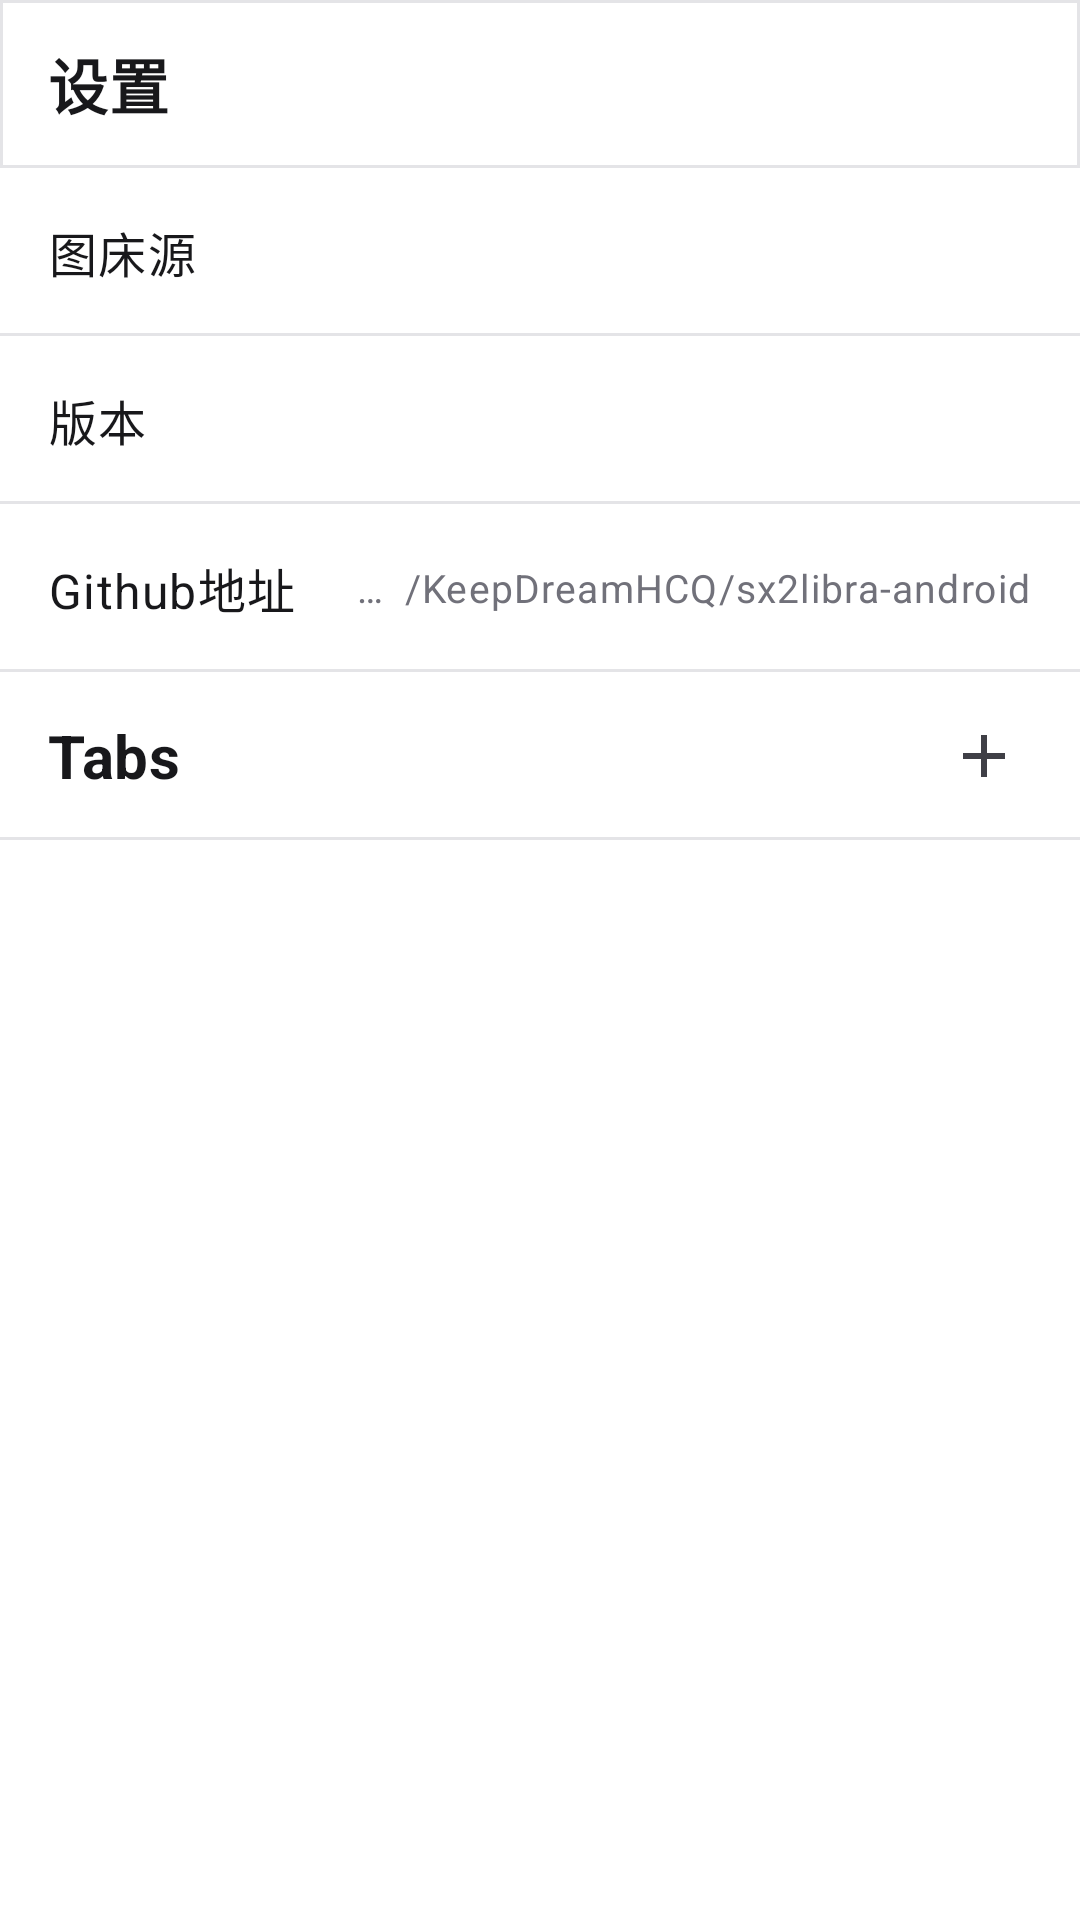

Where icons sit on this 1080 × 1920 app screen, as rect(x1, y1, x2, y2):
新增帖子菜单: rect(963, 735, 1005, 777)
